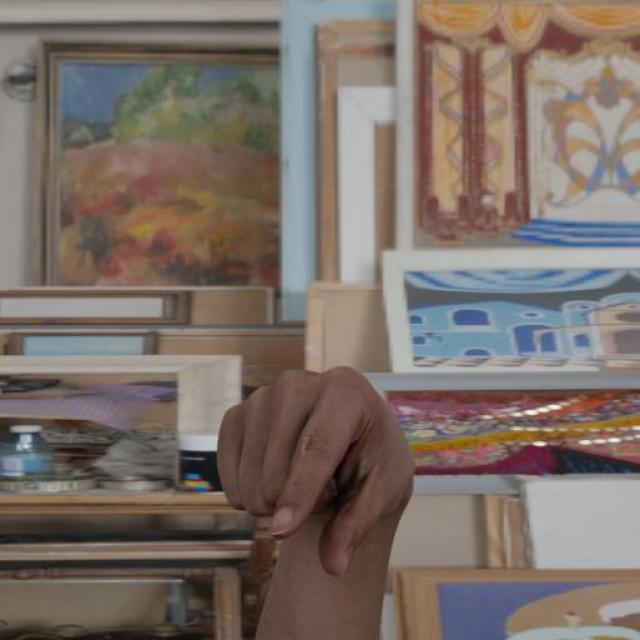Q: (213, 360, 418, 580)
